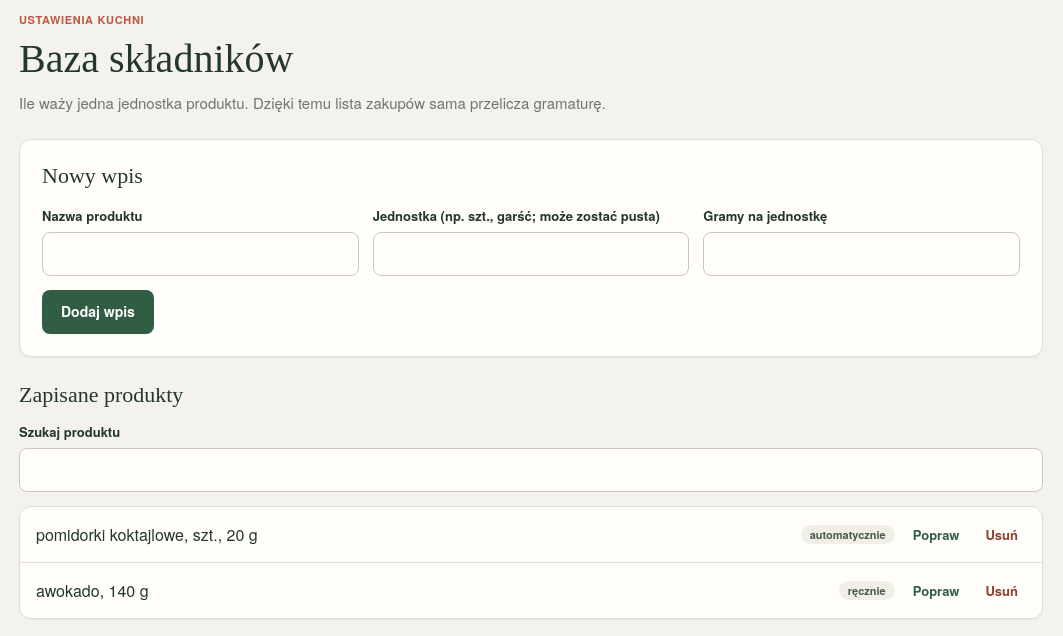
Test: ingredient knowledge base › searches by part of the name
Check: the text "awokado, 140 g" is shown, box [36,579,149,602]
In the search field labelled "Szukaj produktu": {"x": 531, "y": 470} [19,448,1043,492], type "ruk"
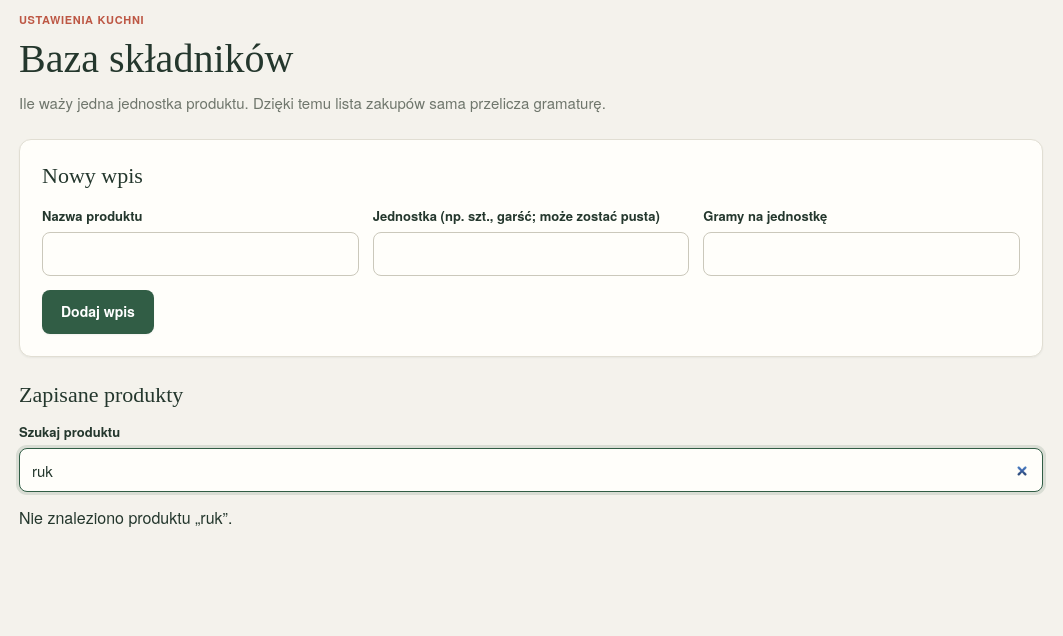
Check: the text "Nie znaleziono produktu „ruk”." is shown, box [19,506,232,529]
